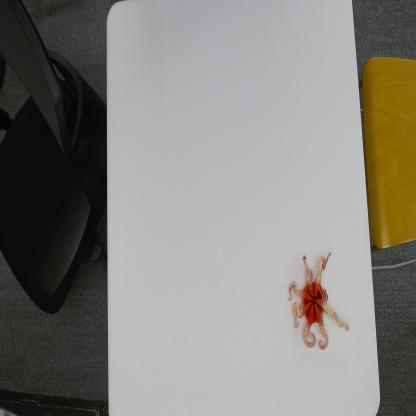Octopus: (288, 251, 349, 352)
